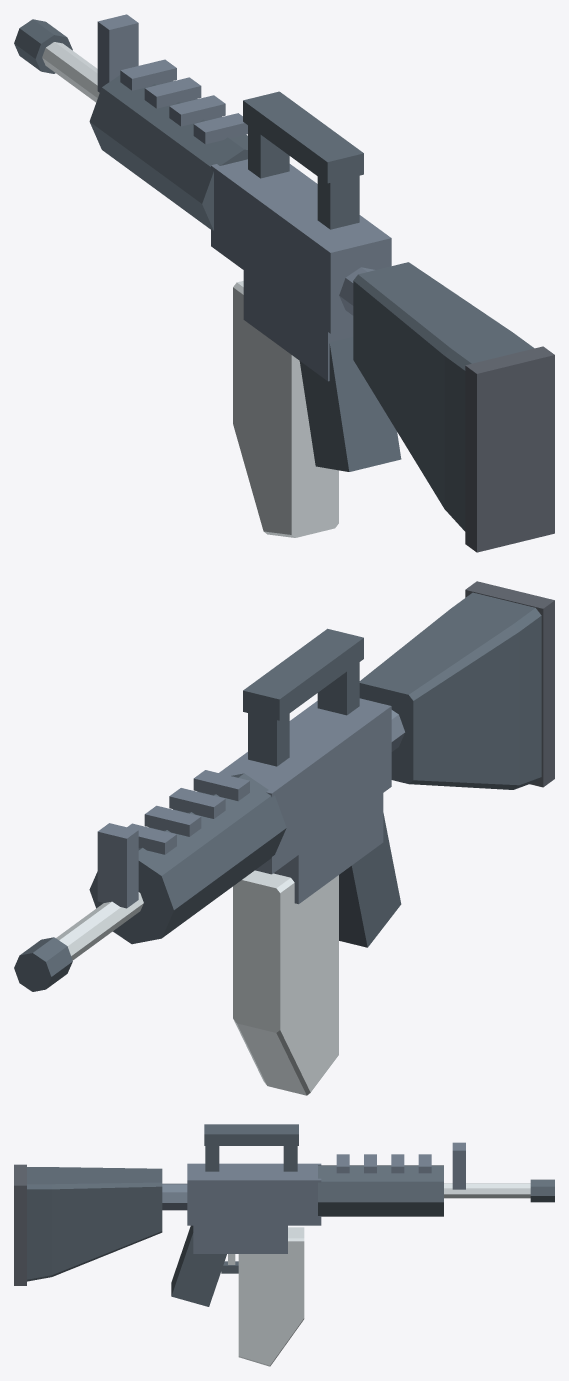
The model's file is rifle.glb.
3 views of the same model, one above another, from view 1: azimuth 30°, elevation 25°; view 2: azimuth 150°, elevation 25°; view 3: azimuth 270°, elevation 25° (orthographic). The views are drawn at different scales.
Parts seen in each view (by area): view 1: Adjustable_Stock, Upper_Receiver, Stock_Pad, Curved_Magazine, Handguard, Pistol_Grip, Handle_Top, Lower_Receiver, Handle_Support (×2), Front_Sight_Post, Barrel, Flash_Hider (+4 smaller); view 2: Adjustable_Stock, Curved_Magazine, Upper_Receiver, Handguard, Handle_Top, Pistol_Grip, Lower_Receiver, Stock_Pad, Handle_Support (×2), Front_Sight_Post, Flash_Hider, Barrel (+4 smaller); view 3: Adjustable_Stock, Upper_Receiver, Curved_Magazine, Handguard, Lower_Receiver, Pistol_Grip, Handle_Top, Stock_Pad, Barrel, Handle_Support (×2), Buffer_Tube, Front_Sight_Post (+1 smaller).
Boxes of the visible parts, x1=… form: Adjustable_Stock: x1=353, y1=262, x2=534, y2=531; Upper_Receiver: x1=211, y1=159, x2=391, y2=333; Stock_Pad: x1=465, y1=346, x2=554, y2=552; Curved_Magazine: x1=233, y1=281, x2=338, y2=537; Handguard: x1=89, y1=67, x2=247, y2=230; Pistol_Grip: x1=299, y1=336, x2=401, y2=471; Handle_Top: x1=243, y1=91, x2=363, y2=183; Lower_Receiver: x1=243, y1=270, x2=353, y2=381; Handle_Support (×2): x1=248, y1=125, x2=359, y2=229; Front_Sight_Post: x1=97, y1=14, x2=138, y2=92; Barrel: x1=42, y1=42, x2=99, y2=102; Flash_Hider: x1=14, y1=19, x2=72, y2=73; Adjustable_Stock: x1=359, y1=592, x2=541, y2=789; Curved_Magazine: x1=233, y1=870, x2=338, y2=1095; Upper_Receiver: x1=219, y1=698, x2=391, y2=874; Handguard: x1=89, y1=773, x2=286, y2=944; Handle_Top: x1=243, y1=628, x2=363, y2=720; Pistol_Grip: x1=339, y1=813, x2=401, y2=947; Lower_Receiver: x1=273, y1=793, x2=383, y2=904; Stock_Pad: x1=465, y1=581, x2=554, y2=787; Handle_Support (×2): x1=248, y1=662, x2=359, y2=766; Front_Sight_Post: x1=97, y1=823, x2=138, y2=908; Flash_Hider: x1=14, y1=937, x2=72, y2=991; Barrel: x1=56, y1=892, x2=143, y2=960; Adjustable_Stock: x1=27, y1=1167, x2=162, y2=1281; Upper_Receiver: x1=187, y1=1163, x2=321, y2=1225; Curved_Magazine: x1=238, y1=1227, x2=304, y2=1366; Handguard: x1=318, y1=1165, x2=443, y2=1216; Lower_Receiver: x1=193, y1=1225, x2=287, y2=1253; Pistol_Grip: x1=171, y1=1225, x2=226, y2=1306; Handle_Top: x1=204, y1=1124, x2=298, y2=1145; Stock_Pad: x1=14, y1=1164, x2=26, y2=1285; Barrel: x1=444, y1=1183, x2=530, y2=1198; Handle_Support (×2): x1=205, y1=1146, x2=297, y2=1171; Buffer_Tube: x1=162, y1=1183, x2=187, y2=1210; Front_Sight_Post: x1=452, y1=1142, x2=465, y2=1189.
Size of the model in its own units: 0.104 by 0.4875 by 1.03.
